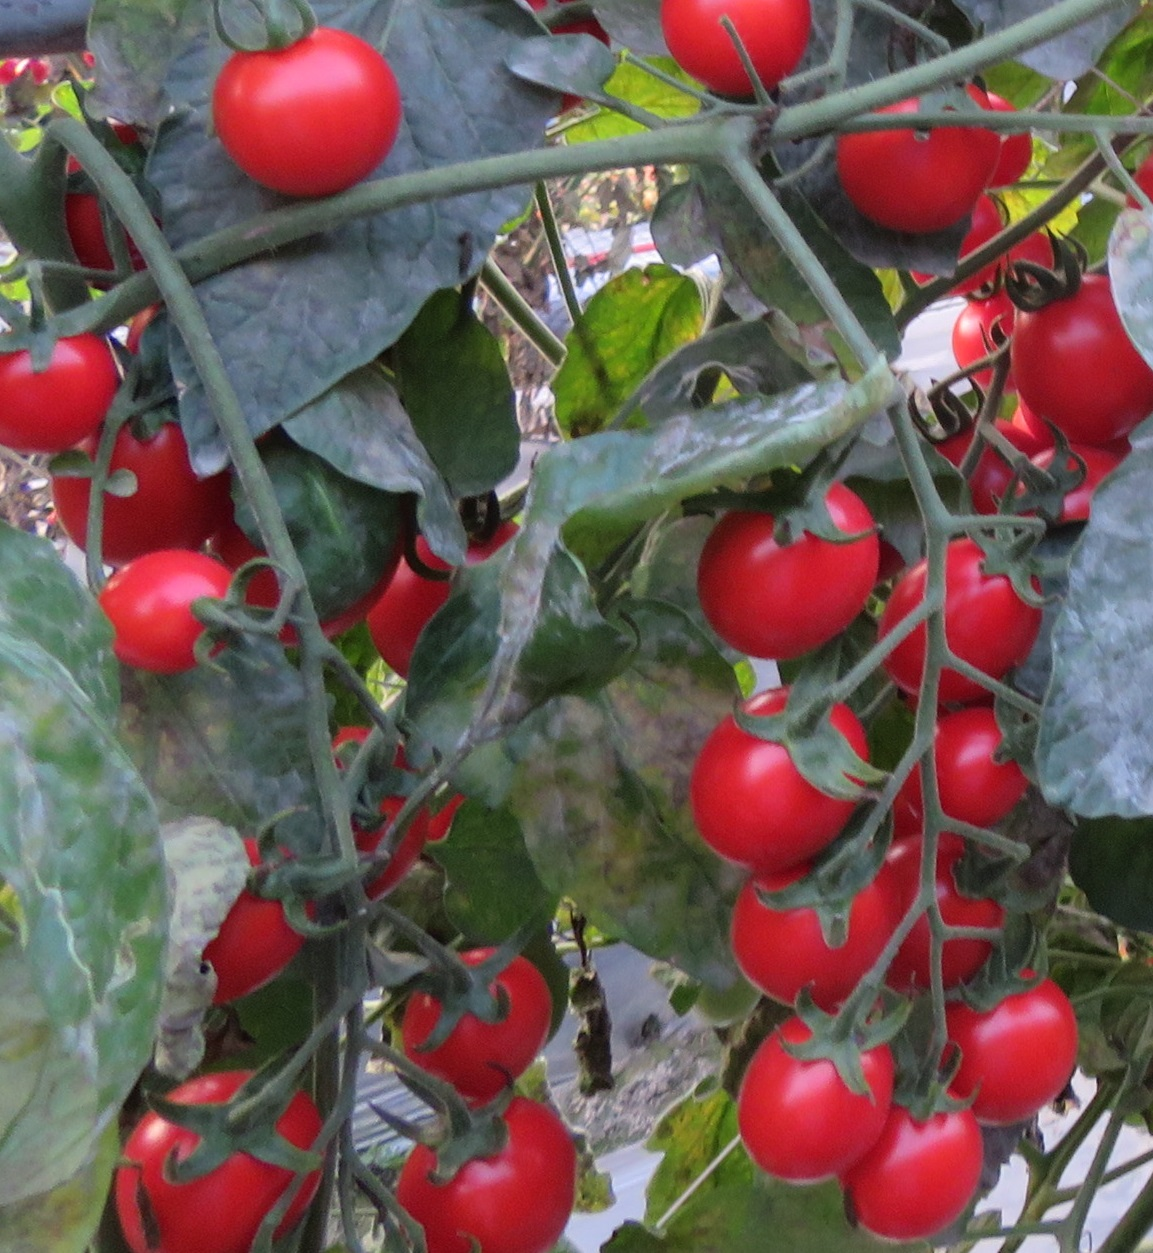red: (105, 1064, 325, 1253), (213, 25, 406, 196), (697, 478, 883, 649), (693, 694, 866, 875), (723, 1009, 898, 1186), (402, 1090, 580, 1253), (722, 856, 901, 1013), (170, 832, 331, 1005), (883, 536, 1048, 703), (830, 77, 992, 237), (388, 942, 562, 1088), (46, 425, 242, 551), (1005, 264, 1148, 430), (934, 964, 1078, 1124), (861, 1088, 983, 1234), (1, 322, 114, 455), (102, 560, 226, 678), (659, 1, 818, 93), (907, 711, 1029, 828)
